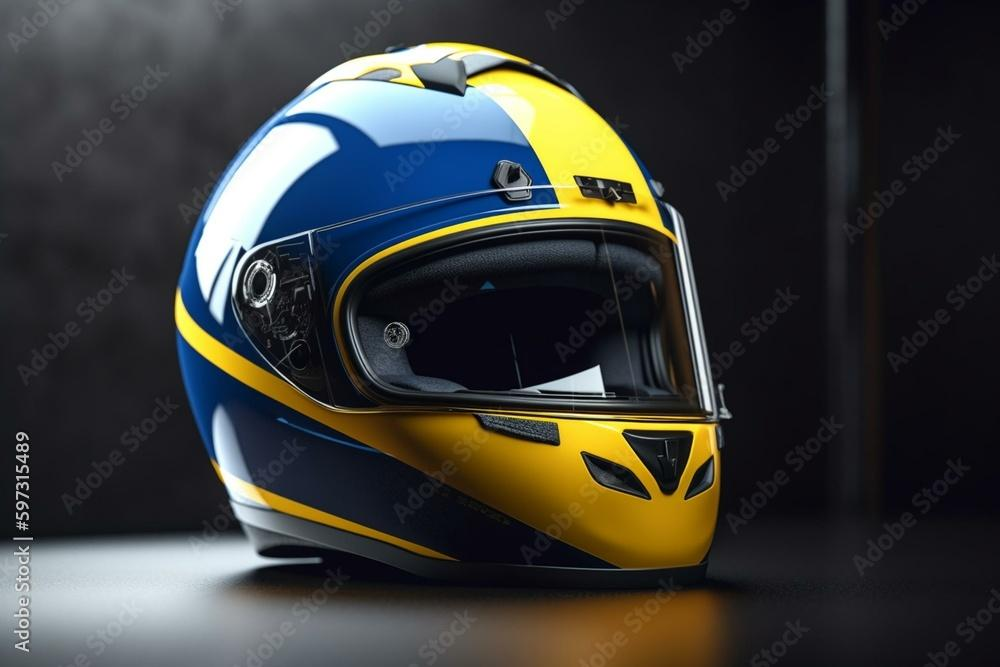helmet: (170, 37, 738, 596)
